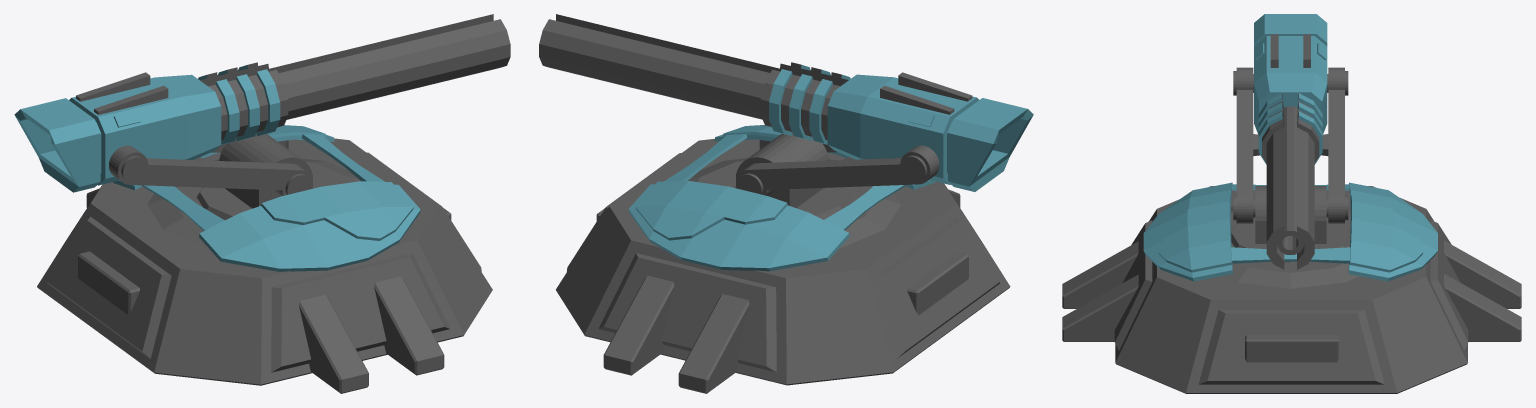
Rendered from Turret1Animation.fbx.
3 views of the same model, side by side, from view 1: azimuth 30°, elevation 25°; view 2: azimuth 150°, elevation 25°; view 3: azimuth 270°, elevation 25° (orthographic). The views are drawn at different scales.
Parts seen in each view (by area): view 1: Cube.022, Cube.004, Cube.007, Cube.008; view 2: Cube.022, Cube.004, Cube.007, Cube.008; view 3: Cube.022, Cube.007, Cube.004, Cube.008.
Boxes of the visible parts, x1,y1,x2,y2 form: Cube.022: [37, 138, 492, 393]; Cube.004: [14, 14, 510, 192]; Cube.007: [113, 125, 420, 271]; Cube.008: [109, 144, 312, 196]; Cube.022: [556, 138, 1010, 393]; Cube.004: [539, 14, 1033, 191]; Cube.007: [628, 125, 935, 271]; Cube.008: [736, 144, 939, 195]; Cube.022: [1062, 186, 1521, 393]; Cube.007: [1143, 182, 1437, 288]; Cube.004: [1254, 14, 1327, 269]; Cube.008: [1233, 67, 1348, 223].
Bounding box in the file's own units: 199 × 101 × 208.
